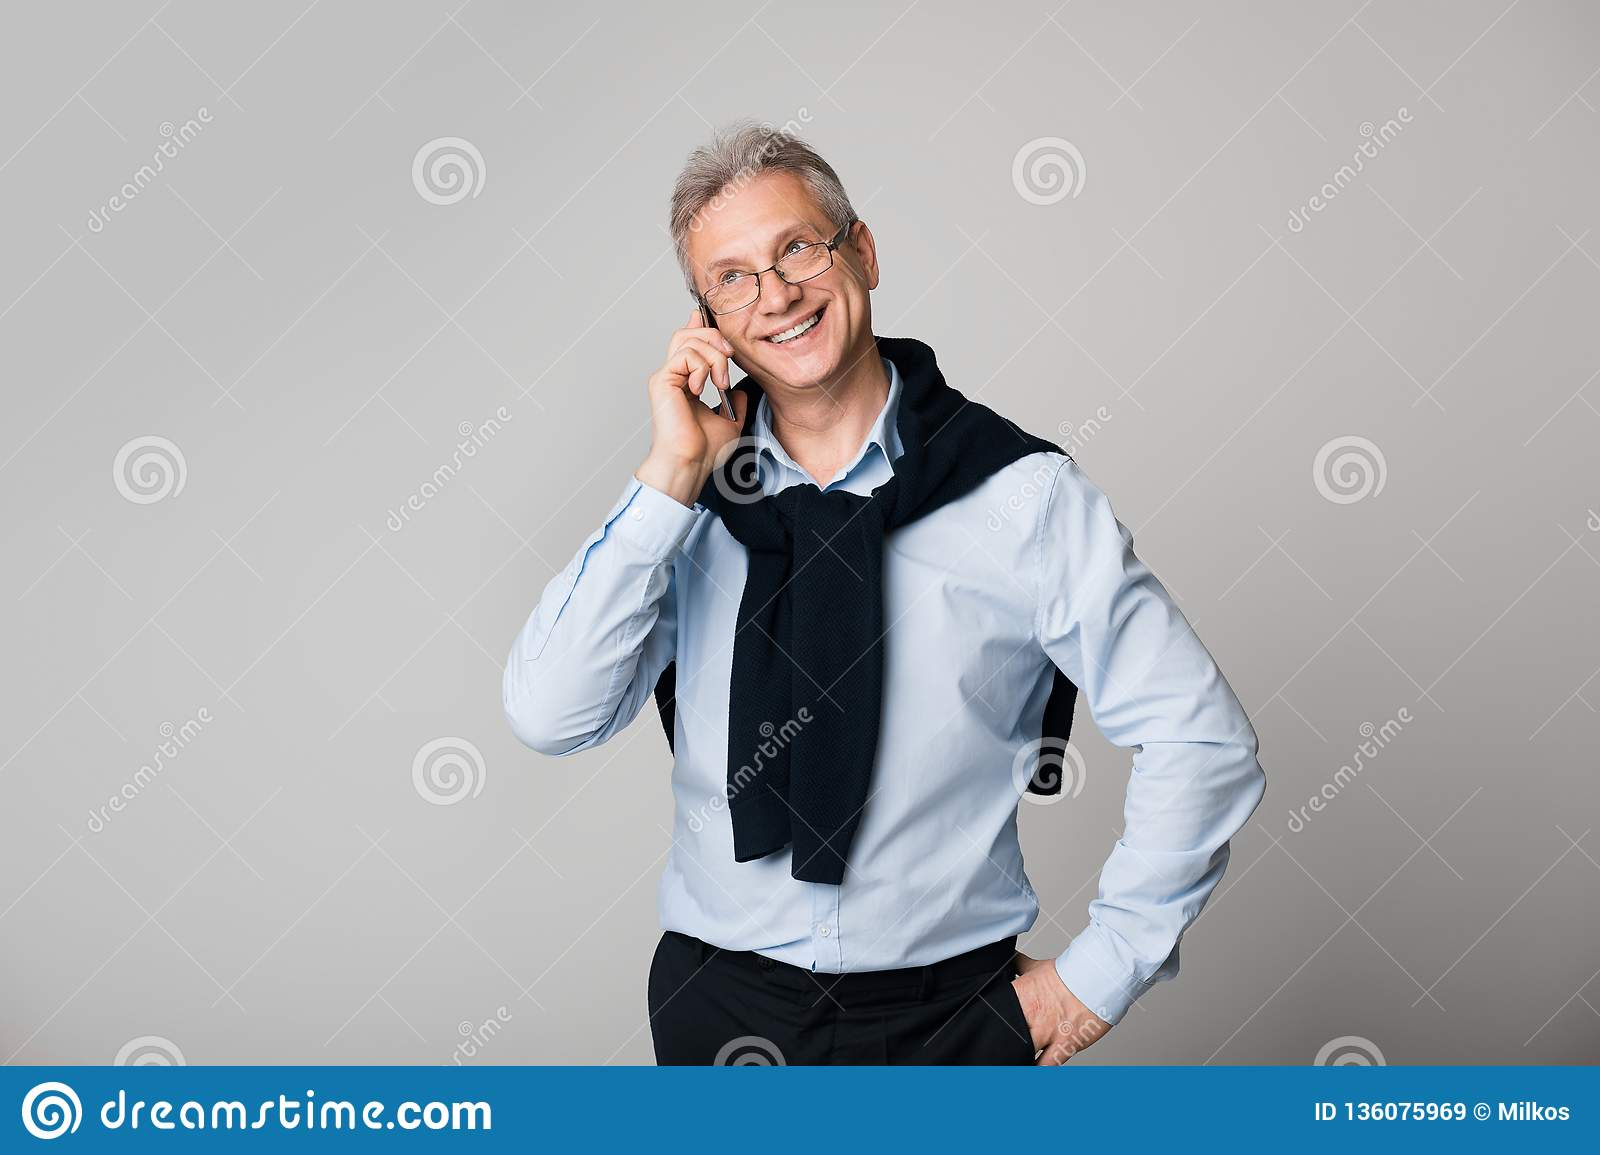phone: (693, 286, 740, 435)
talk: (653, 226, 851, 483)
